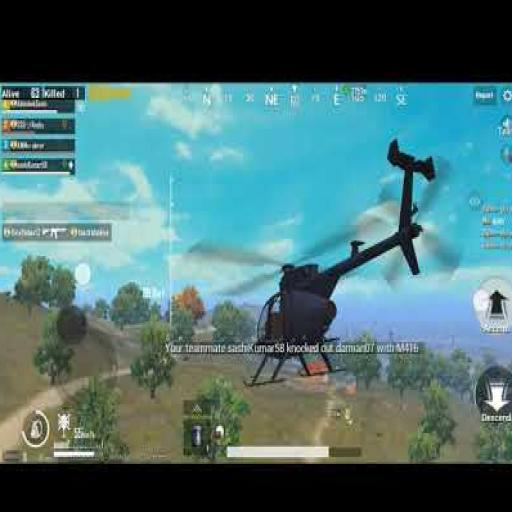helicopter: (200, 139, 458, 372)
